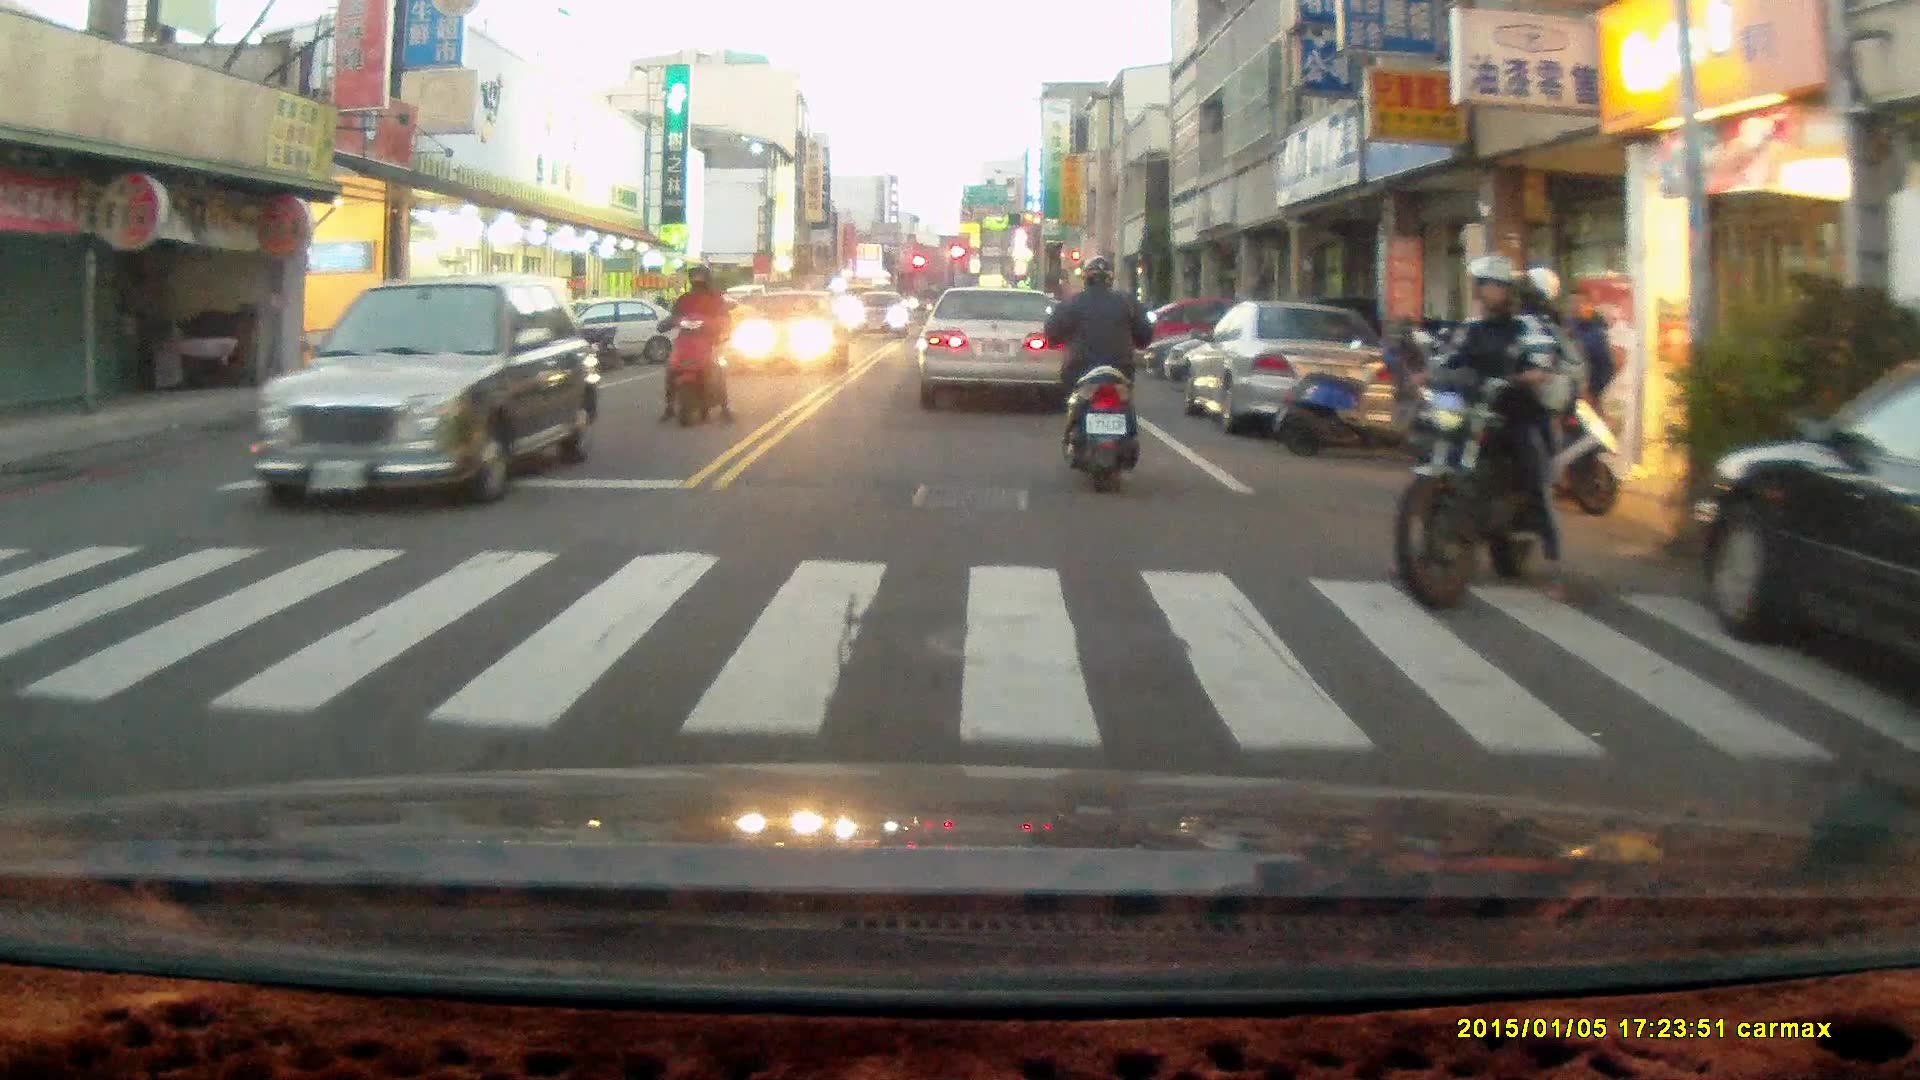pedestrian: (1554, 283, 1616, 479)
rider: (1393, 256, 1592, 602), (1039, 251, 1155, 489), (654, 261, 734, 428)
vehicle: (1684, 351, 1920, 706), (260, 273, 603, 510), (1190, 304, 1407, 442), (922, 287, 1077, 394), (722, 286, 843, 374), (844, 287, 920, 345)
